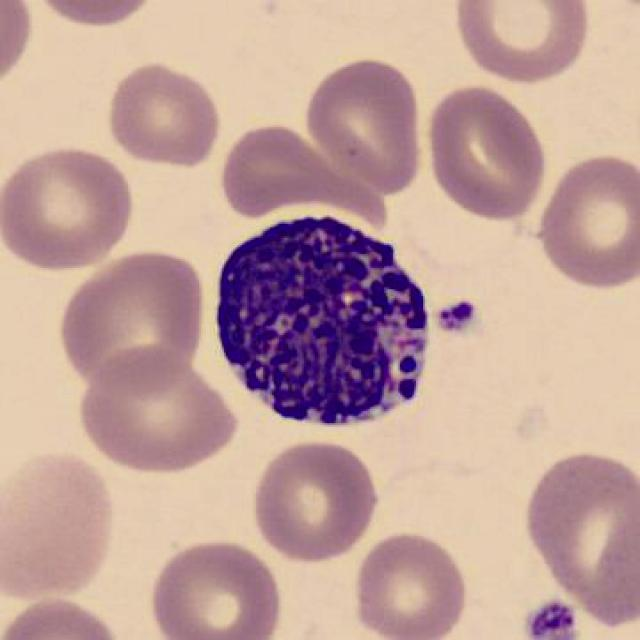Platelets: (521, 596, 581, 638), (434, 294, 482, 337)
RBC: (53, 245, 210, 395), (516, 442, 638, 630), (73, 349, 247, 480), (297, 51, 427, 198), (420, 79, 551, 224), (0, 443, 119, 601), (0, 140, 139, 274), (244, 436, 384, 564), (530, 148, 638, 296), (142, 534, 288, 640), (348, 527, 473, 640), (101, 56, 224, 168), (450, 2, 592, 86), (0, 594, 126, 640), (27, 1, 160, 32), (0, 0, 35, 93)
